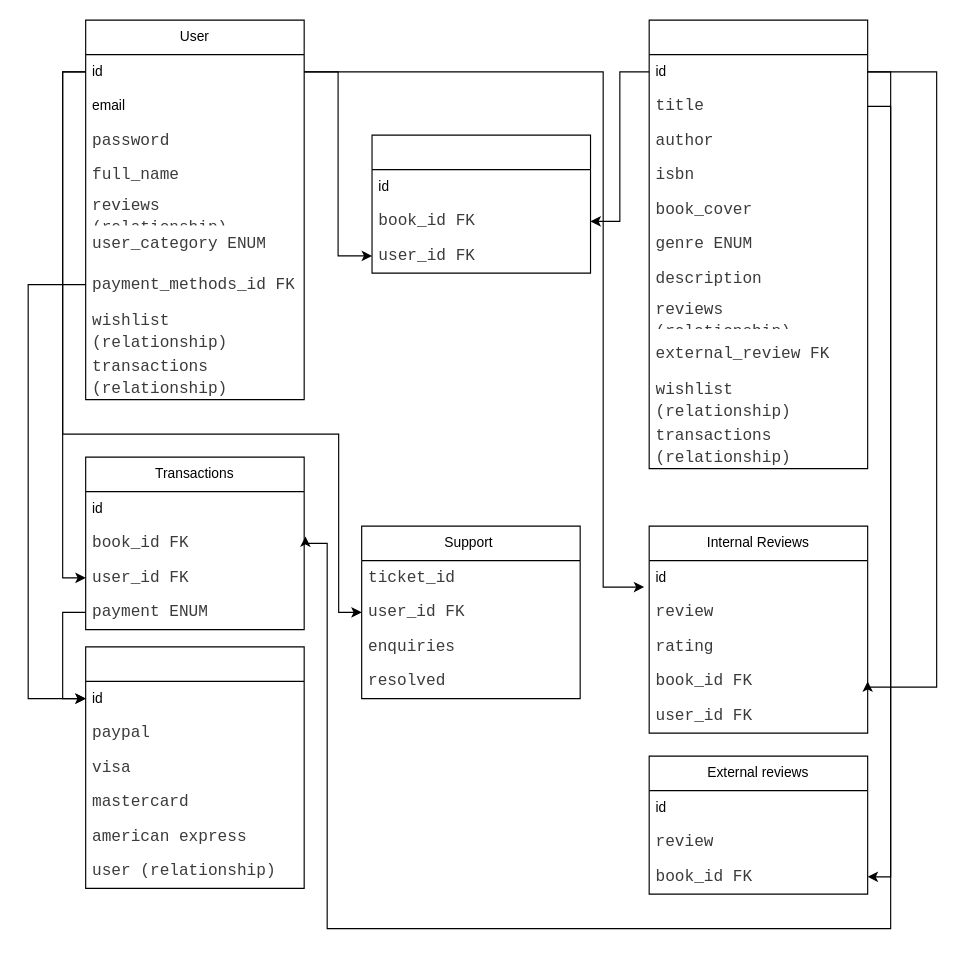
The diagram is 966 pixels wide and 958 high, and some of its shapes have lost their labels. Here are the shapes that lost their labels. From the top down, the box of each, then its label:
(371, 134, 591, 273): Wishlist
(648, 19, 868, 469): Books
(85, 646, 304, 888): Payment methods
